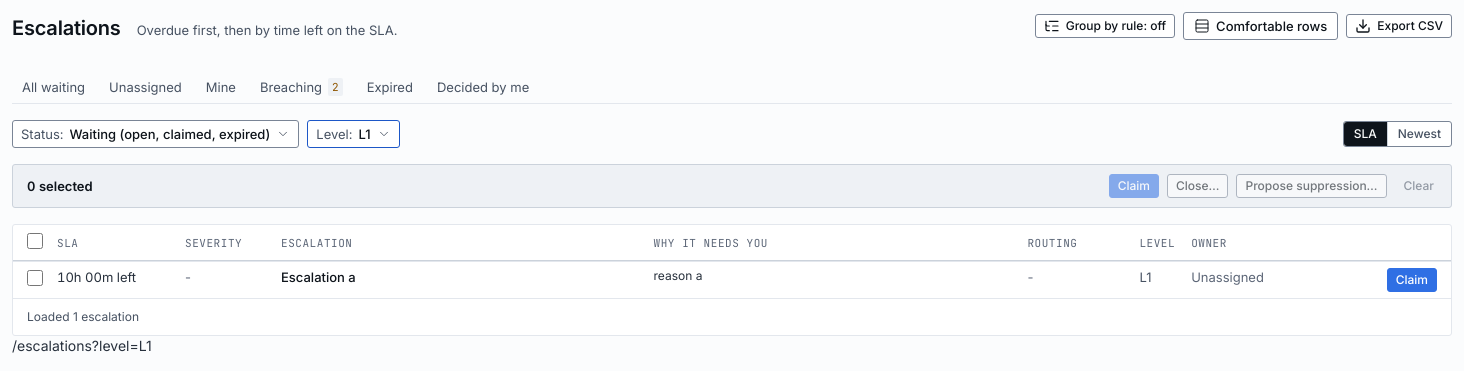
Test: escalation queue URL filters › writes views, the order and the grouping into the URL
The width and height of the screenshot is (1464, 371).
Expected: the link "Escalation a" is shown, [281,269,356,285]
Click the link "Mine": (221, 87) [206,79,236,95]
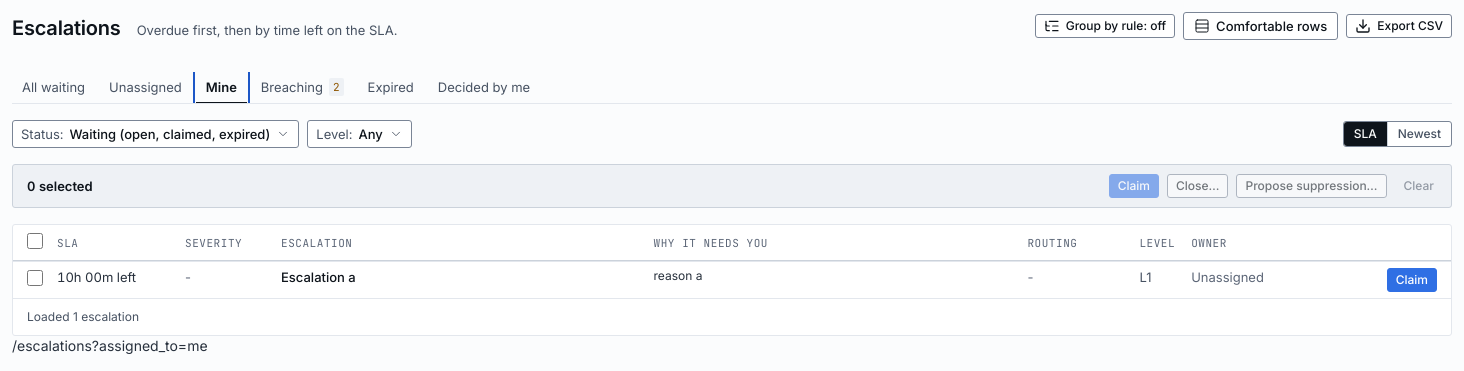
Expected: the text with test id "location" reads "/escalations?assigned_to=me", [12,337,208,354]
Click the radio button with aria-label "Newest first": (1419, 134) [1387,122,1451,146]
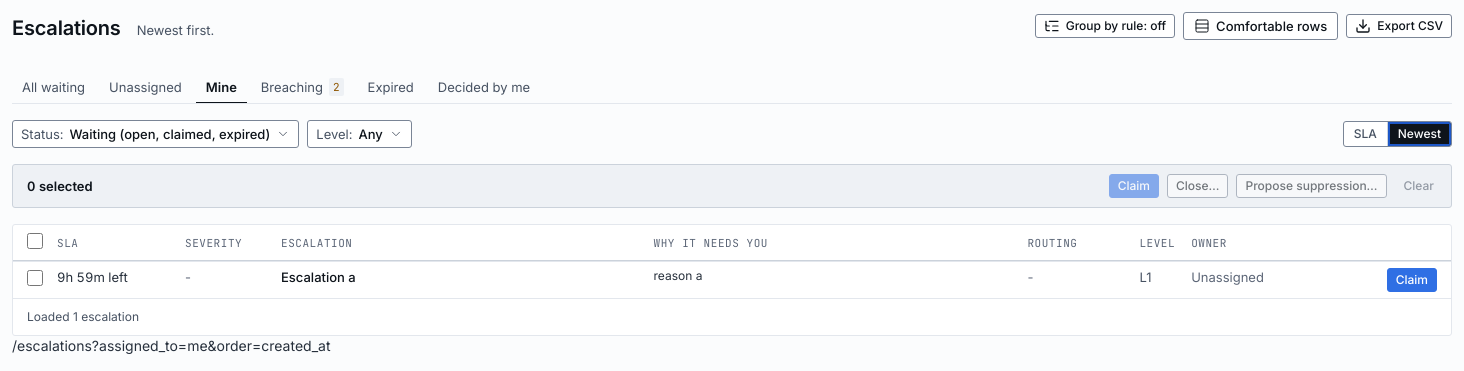
Expected: the text with test id "location" reads "/escalations?assigned_to=me&order=created_at", [12,337,330,354]
Expected: the text "Newest first." is shown, [137,22,214,38]
Click the button "Group by rule: off": (1105, 26) [1035,14,1175,38]
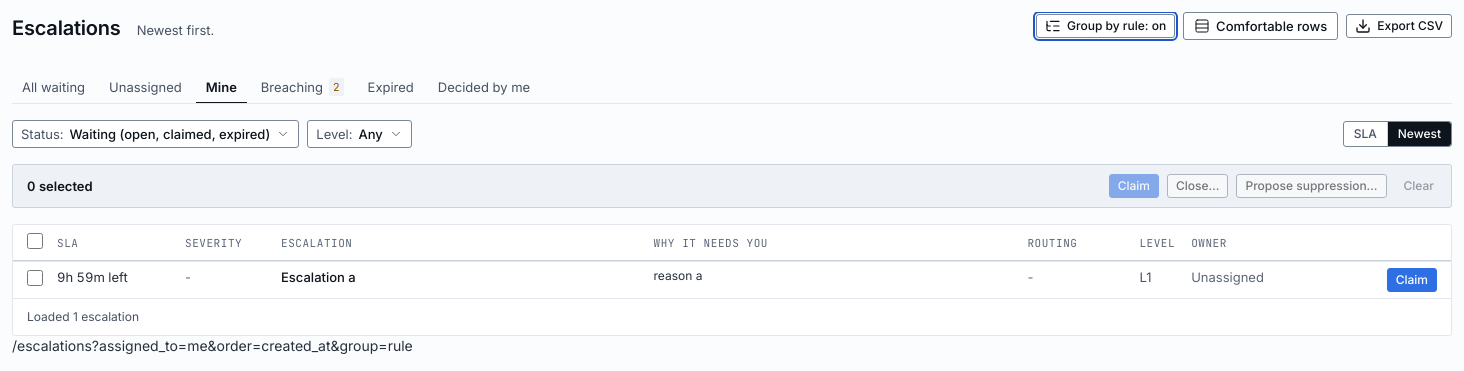
Expected: the text with test id "location" shows "group=rule", [12,337,413,354]
